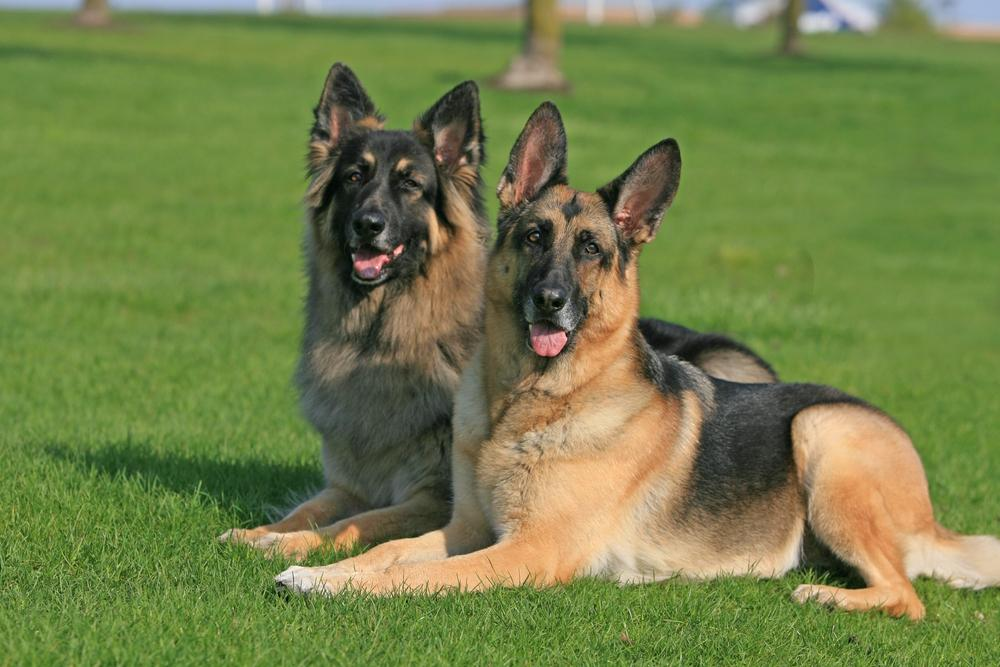german_shepherd: (452, 142, 679, 372), (283, 74, 489, 309)
